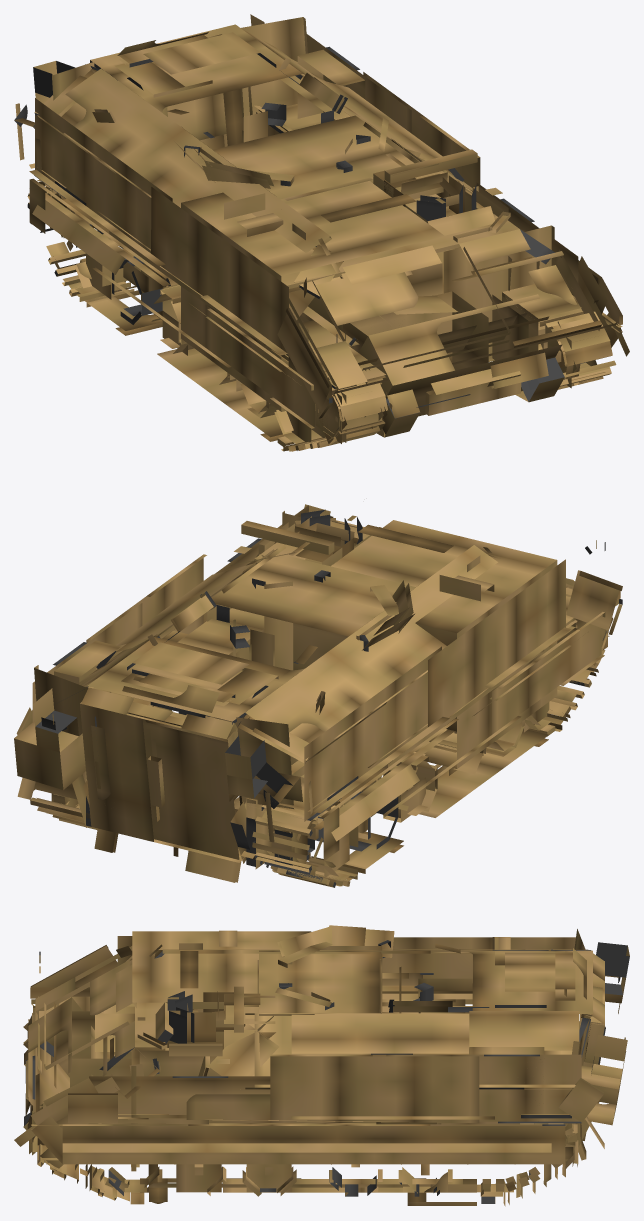
3 views of the same model, one above another, from view 1: azimuth 30°, elevation 25°; view 2: azimuth 150°, elevation 25°; view 3: azimuth 270°, elevation 25° (orthographic). The views are drawn at different scales.
Parts seen in each view (by area): view 1: body, track, w6, w1, w5, w7, w2; view 2: body, track, w5, w8, w7, w6, w3; view 3: body, track, w12, w11, w10, w14, w13, w15, w9.
Part boxes in pixels (x1,y1,x2,y2): body: [14, 14, 629, 437]; track: [27, 179, 616, 451]; w6: [112, 256, 170, 324]; w1: [315, 369, 387, 443]; w5: [151, 284, 200, 355]; w7: [74, 230, 127, 299]; w2: [274, 410, 325, 443]; body: [14, 504, 622, 882]; track: [30, 594, 612, 887]; w5: [383, 752, 437, 822]; w8: [267, 818, 323, 865]; w7: [306, 808, 358, 876]; w6: [339, 785, 398, 851]; w3: [486, 720, 524, 756]; body: [14, 925, 629, 1171]; track: [27, 997, 581, 1206]; w12: [242, 1164, 296, 1196]; w11: [174, 1164, 226, 1195]; w10: [108, 1164, 162, 1195]; w14: [398, 1164, 452, 1196]; w13: [329, 1164, 382, 1196]; w15: [467, 1164, 516, 1196]; w9: [23, 1106, 63, 1170].
Bounding box in the file's own units: 4.27 × 2.64 × 8.28.
